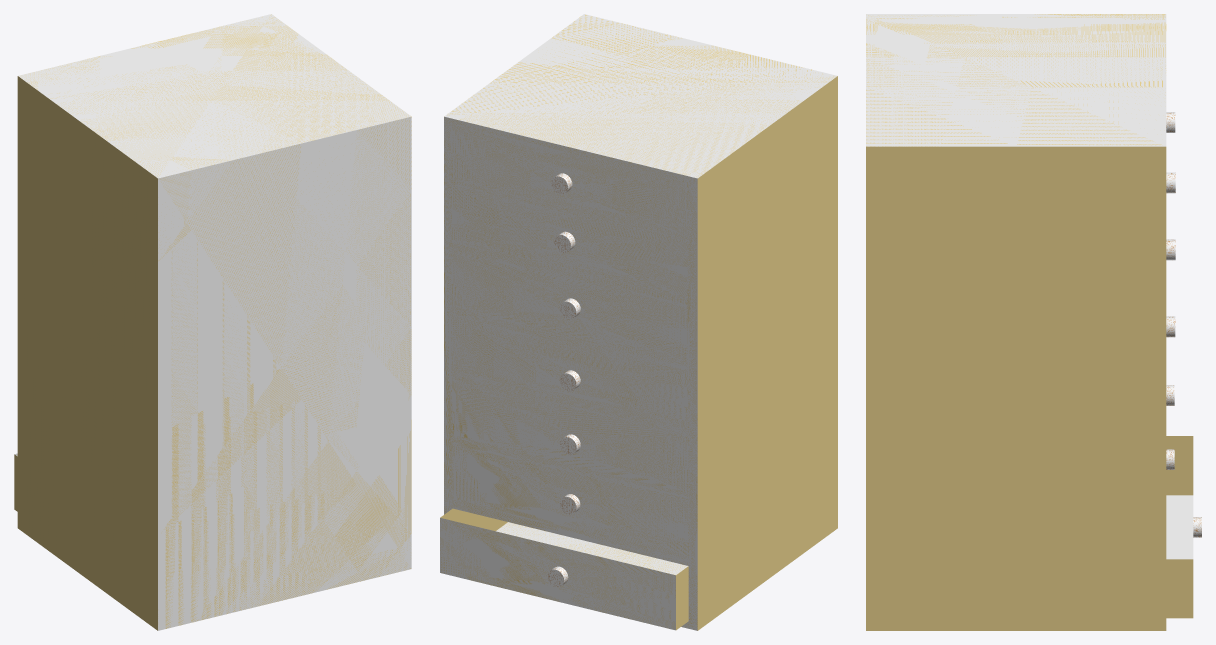
3 renders of one model, left to right at view 1: azimuth 30°, elevation 25°; view 2: azimuth 150°, elevation 25°; view 3: azimuth 270°, elevation 25°, orthographic. The views are drawn at different scales.
Visible parts, largest first — view 1: mesh1_mesh1-geometry; view 2: mesh1_mesh1-geometry; view 3: mesh1_mesh1-geometry.
Boxes of the visible parts, left/top/right/bottom form: mesh1_mesh1-geometry: left=14, top=14, right=411, bottom=630; mesh1_mesh1-geometry: left=440, top=14, right=837, bottom=630; mesh1_mesh1-geometry: left=866, top=14, right=1201, bottom=630.
Size of the model in its own units: 0.445 by 0.7582 by 0.4766.
